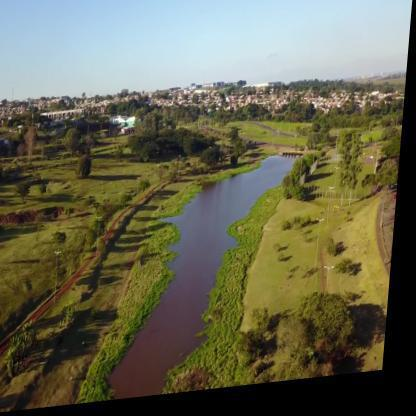agua: (161, 189, 241, 375)
